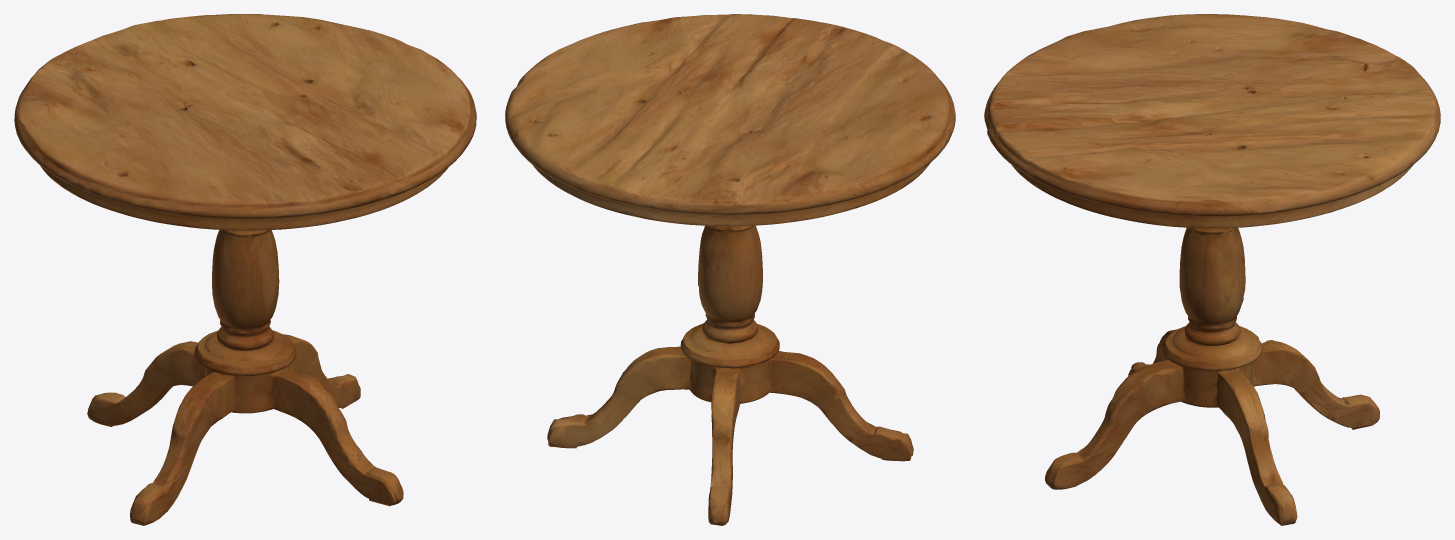
File: kitchen-table.glb
3 views of the same model, side by side, from view 1: azimuth 30°, elevation 25°; view 2: azimuth 150°, elevation 25°; view 3: azimuth 270°, elevation 25° (orthographic). The views are drawn at different scales.
Parts seen in each view (by area): view 1: tripo_node_01a2180a-f8dc-7430-824d-cbf392994c8e; view 2: tripo_node_01a2180a-f8dc-7430-824d-cbf392994c8e; view 3: tripo_node_01a2180a-f8dc-7430-824d-cbf392994c8e.
Part boxes in pixels (x1,y1,x2,y2): tripo_node_01a2180a-f8dc-7430-824d-cbf392994c8e: (14,14,476,525); tripo_node_01a2180a-f8dc-7430-824d-cbf392994c8e: (505,14,955,525); tripo_node_01a2180a-f8dc-7430-824d-cbf392994c8e: (984,14,1440,525).
Bounding box in the file's own units: 0.998 × 0.8511 × 1.
Materials: 1 (1 with a texture image).
